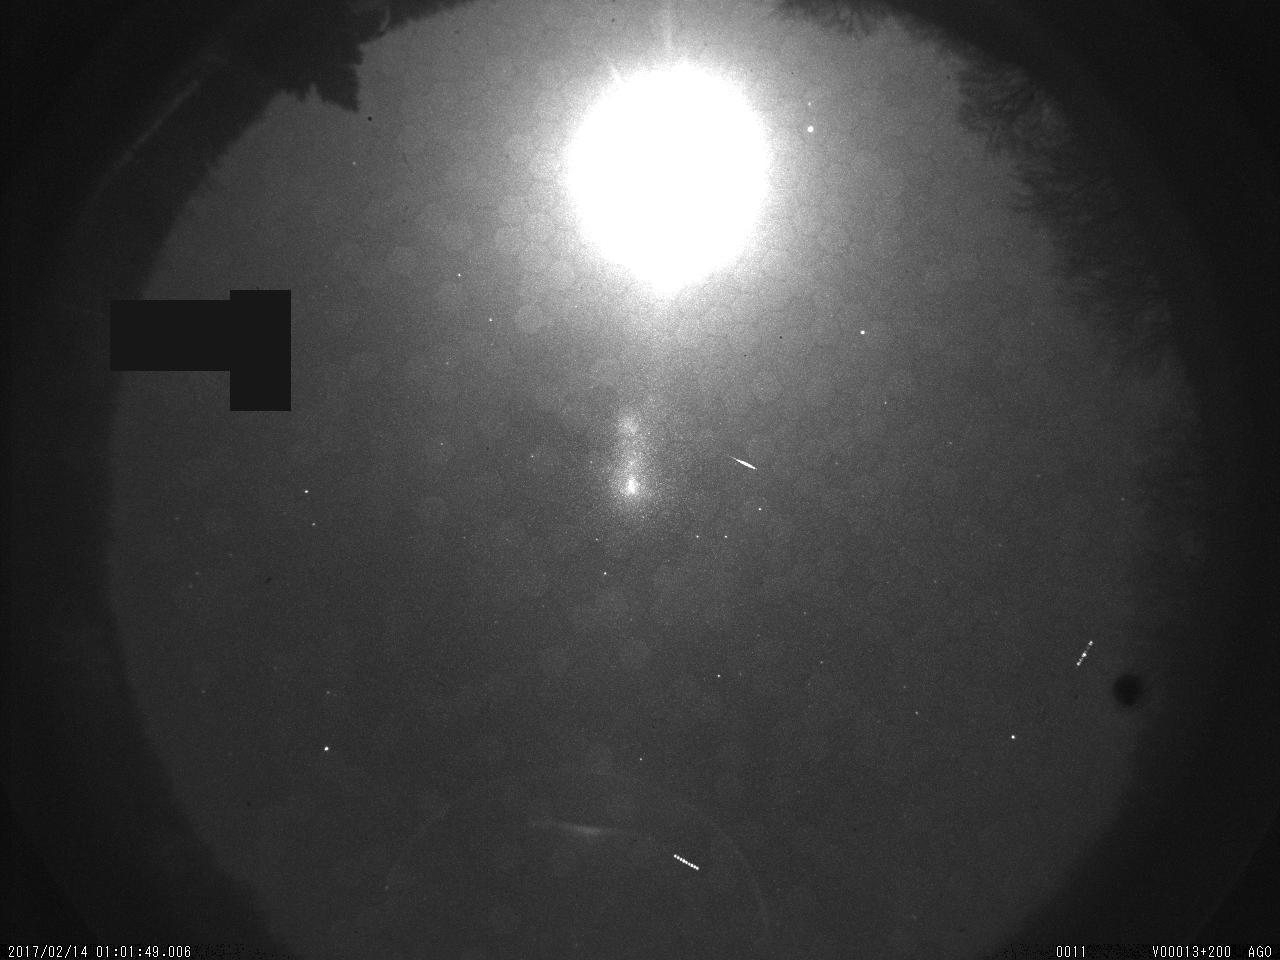Meteor: (728, 453, 760, 470)
